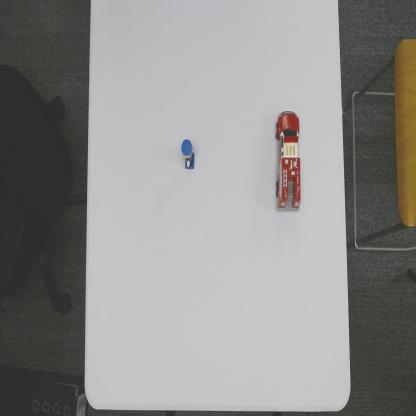Firetruck: (274, 109, 301, 212)
